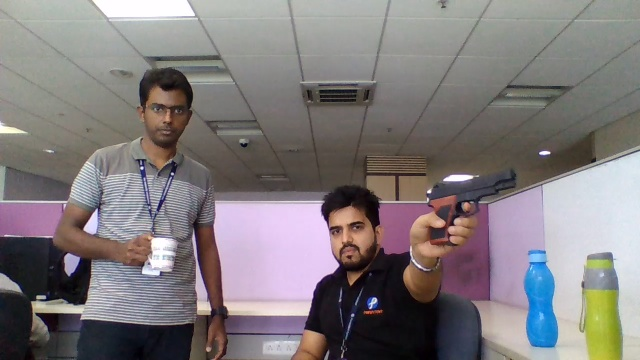gun: (425, 169, 518, 221)
